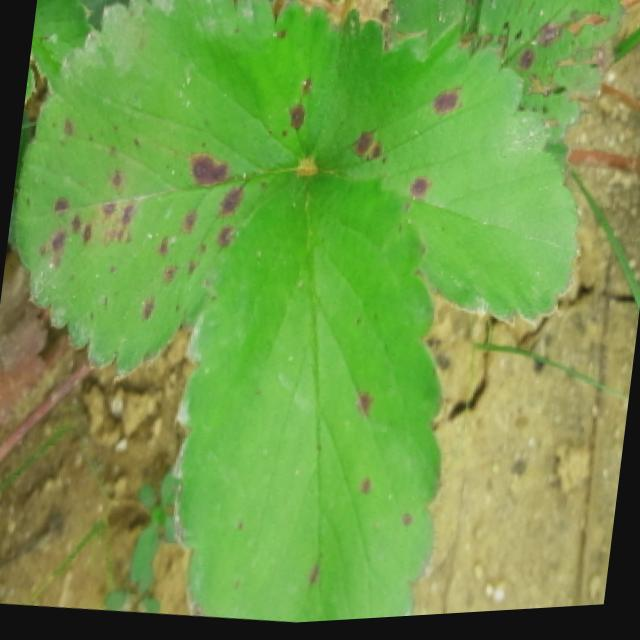Leaf Spot: (170, 175, 444, 626), (16, 0, 341, 377), (305, 15, 578, 330), (384, 0, 627, 165)
